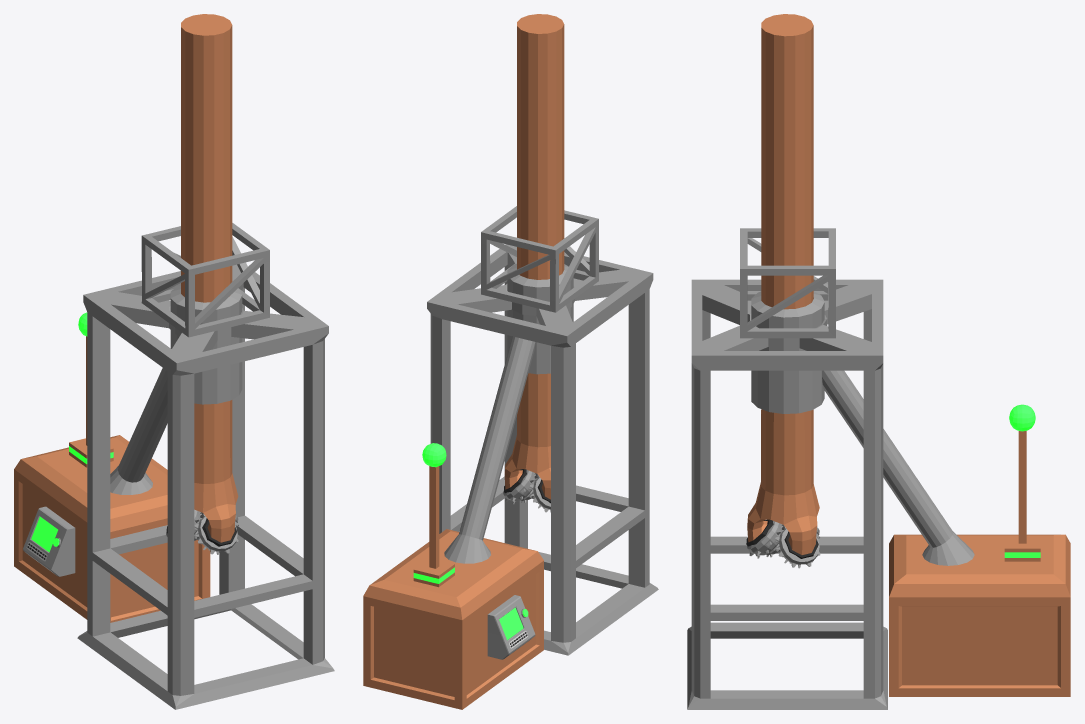
File: foreuse.glb
The picture shows the model from 3 angles, left to right: view 1: azimuth 30°, elevation 25°; view 2: azimuth 150°, elevation 25°; view 3: azimuth 270°, elevation 25°; orthographic projection. The views are drawn at different scales.
Parts seen in each view (by area): view 1: Cube.009, Plane.002, Cube, Cube.010, Plane.001, Screen, Cube.005; view 2: Cube.009, Cube, Plane.002, Plane.001, Cube.010, Screen, Cube.004, ElectricalHook; view 3: Cube.009, Cube, Plane.002, Plane.001, Cube.010, Cube.005.
Part boxes in pixels (<box>): Cube.009: <box>77,264,334,709</box>; Plane.002: <box>166,14,238,546</box>; Cube: <box>14,336,210,622</box>; Cube.010: <box>141,223,269,337</box>; Plane.001: <box>110,284,242,494</box>; Screen: <box>23,506,75,576</box>; Cube.005: <box>194,514,238,554</box>; Cube.009: <box>427,244,658,655</box>; Cube: <box>363,466,543,709</box>; Plane.002: <box>503,14,564,503</box>; Plane.001: <box>444,263,573,563</box>; Cube.010: <box>481,206,598,312</box>; Screen: <box>487,595,535,659</box>; Cube.004: <box>503,470,537,504</box>; ElectricalHook: <box>422,443,446,467</box>; Cube.009: <box>687,279,887,709</box>; Cube: <box>889,431,1070,696</box>; Plane.002: <box>746,14,819,558</box>; Plane.001: <box>751,291,974,565</box>; Cube.010: <box>740,228,835,338</box>; Cube.005: <box>747,521,783,558</box>.
Bounding box in the file's own units: 2.08 × 7.83 × 4.22.
